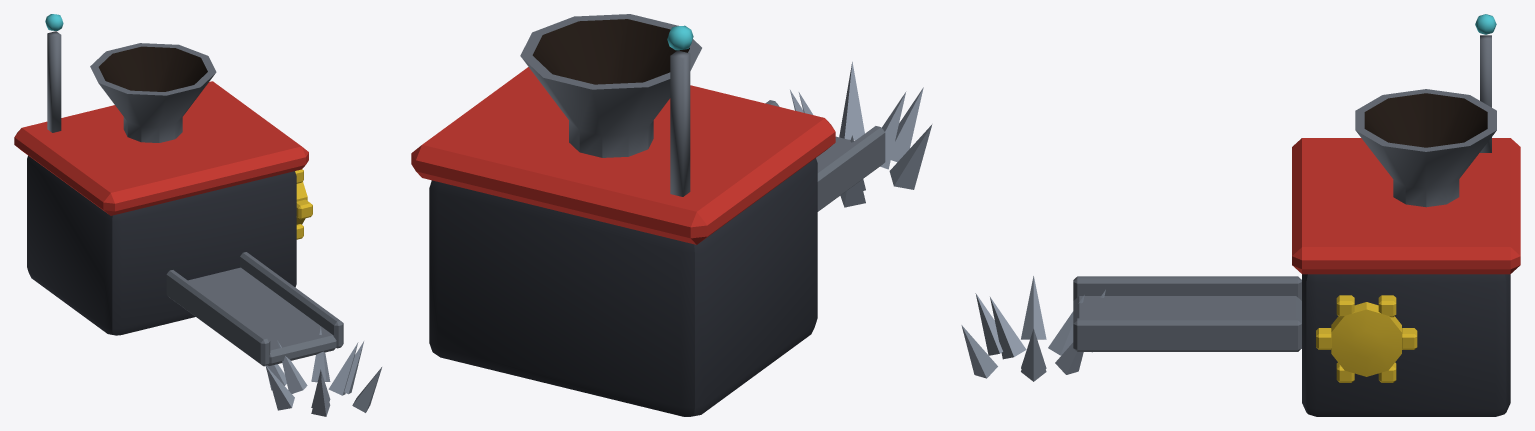
3 views of the same model, side by side, from view 1: azimuth 30°, elevation 25°; view 2: azimuth 150°, elevation 25°; view 3: azimuth 270°, elevation 25° (orthographic). The views are drawn at different scales.
Parts seen in each view (by area): view 1: espinhos_0_base, espinhos_1_torreta; view 2: espinhos_0_base, espinhos_1_torreta; view 3: espinhos_0_base, espinhos_1_torreta.
Boxes of the visible parts, x1,y1,x2,y2 form: espinhos_0_base: [14, 14, 381, 416]; espinhos_1_torreta: [166, 252, 343, 366]; espinhos_0_base: [411, 14, 932, 416]; espinhos_1_torreta: [765, 100, 885, 211]; espinhos_0_base: [961, 14, 1520, 416]; espinhos_1_torreta: [1073, 276, 1301, 351].
Bounding box in the file's own units: 0.596 × 0.6918 × 1.13.
